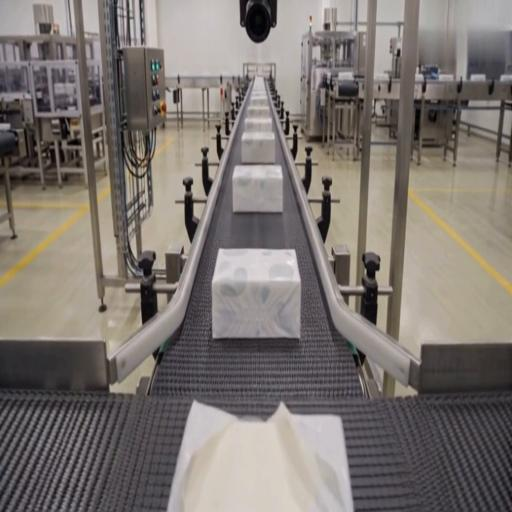defective: (168, 397, 351, 512)
good: (212, 247, 301, 340), (232, 164, 284, 214), (240, 129, 278, 166), (247, 76, 270, 98), (244, 116, 272, 133), (246, 100, 271, 116)
